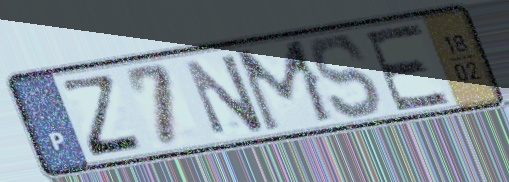7: (121, 59, 184, 151)
E: (361, 20, 454, 115)
M: (231, 36, 340, 136)
N: (179, 49, 270, 138)
S: (309, 32, 386, 123)
Z: (58, 72, 147, 160)
